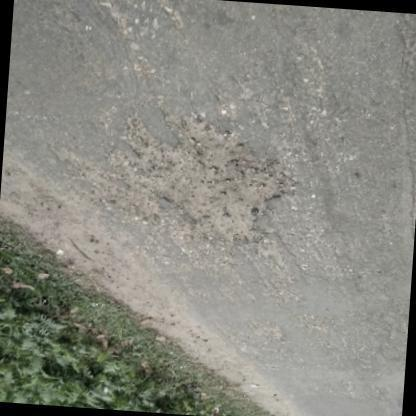pothole: (122, 114, 288, 246)
